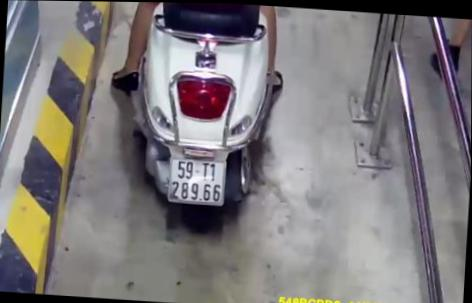LP: (165, 154, 228, 206)
